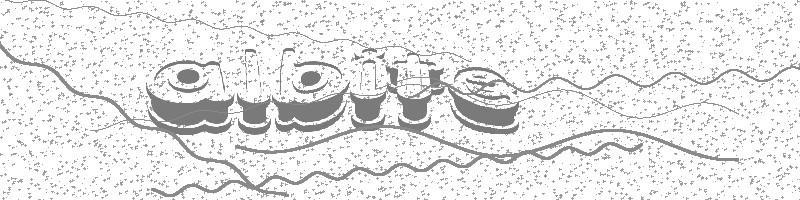a: (145, 59, 235, 135)
b: (271, 47, 349, 135)
e: (449, 65, 522, 135)
i: (350, 48, 388, 131)
l: (236, 48, 273, 136)
t: (385, 51, 446, 132)
